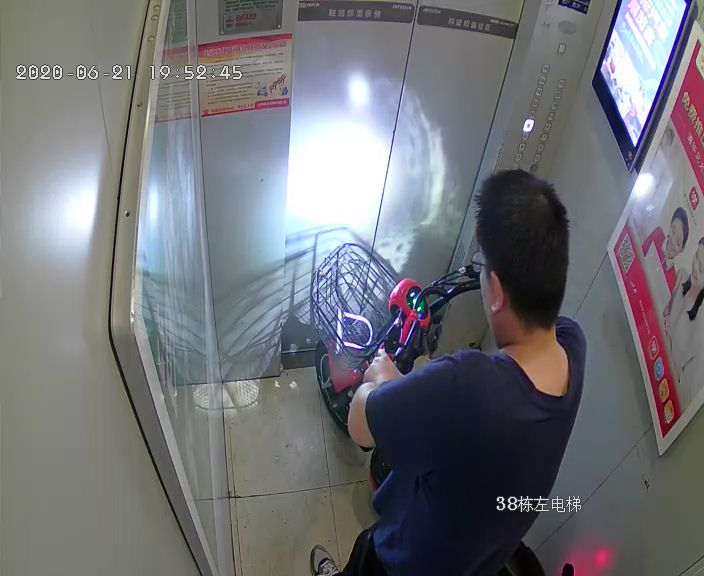Electric-bicycle: (315, 234, 583, 576)
